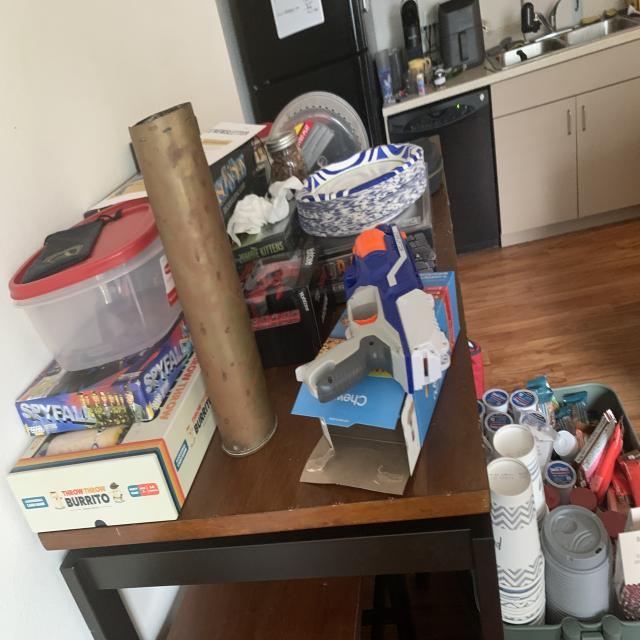nerf-maverik: (288, 211, 464, 413)
